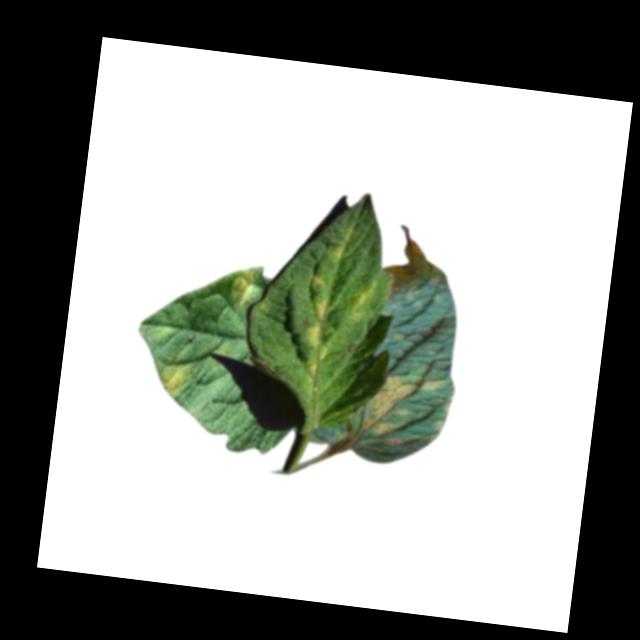Leaf_Mold: (298, 221, 351, 379), (358, 366, 448, 452), (154, 352, 194, 399), (345, 274, 380, 322), (226, 264, 262, 307)
